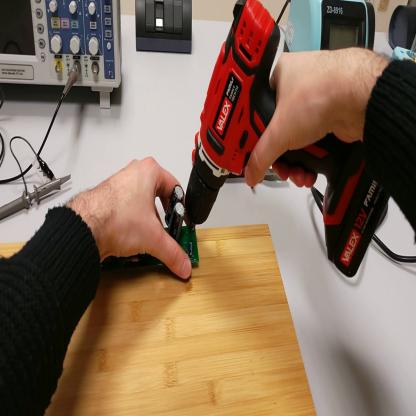electric screwdriver: (185, 1, 392, 282)
hand: (243, 46, 371, 187), (97, 154, 196, 282)
high voltage board: (101, 181, 201, 274)
oscilloscope: (2, 3, 122, 107)
oscilloscope probe tip: (2, 174, 75, 224)
socket: (387, 2, 416, 49), (369, 6, 378, 46)
welder base: (393, 32, 416, 60)
welder station: (285, 4, 369, 55)
working area: (2, 226, 317, 415)
